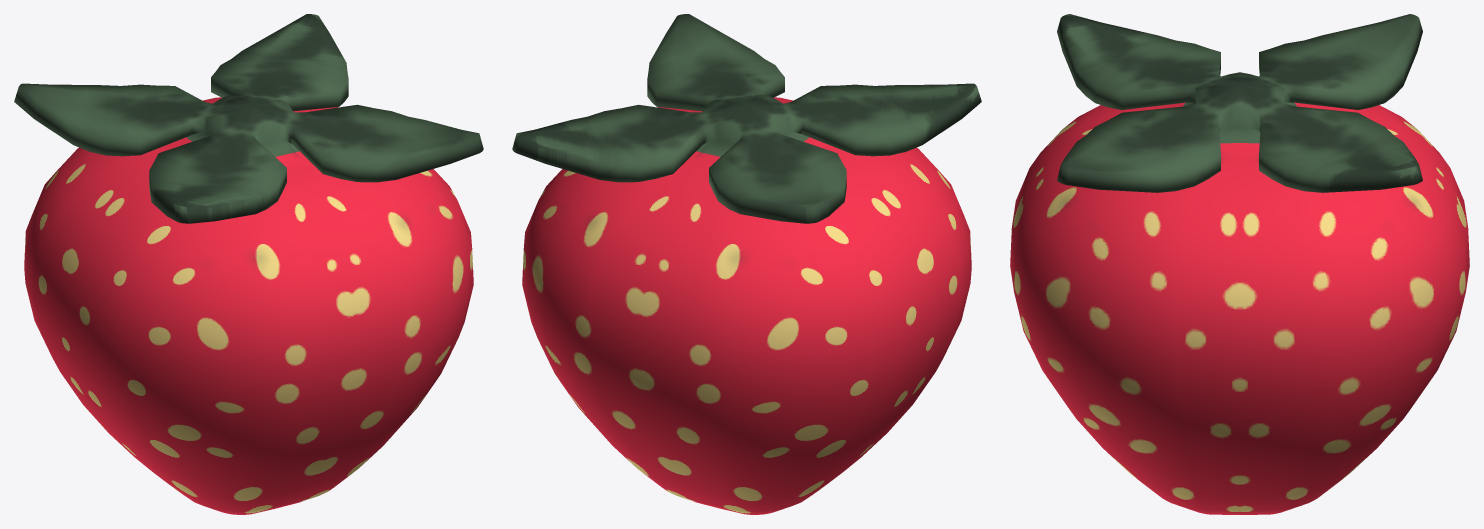
The model's file is strawberry.fbx.
3 renders of one model, left to right at view 1: azimuth 30°, elevation 25°; view 2: azimuth 150°, elevation 25°; view 3: azimuth 270°, elevation 25°, orthographic. The views are drawn at different scales.
Visible parts, largest first — view 1: strawberry; view 2: strawberry; view 3: strawberry.
Part boxes in pixels (box(x1,y1,x2,y2)): strawberry: box(14, 14, 483, 514); strawberry: box(512, 14, 981, 514); strawberry: box(1010, 14, 1469, 514).
Size of the model in its own units: 26.15 by 25.91 by 26.15.
